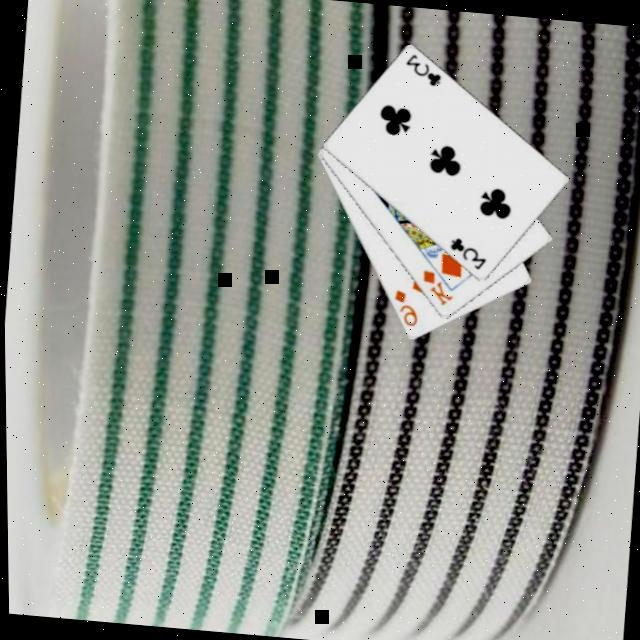3C: (442, 232, 487, 273), (399, 49, 444, 90)
9D: (385, 285, 420, 329)
KD: (413, 265, 455, 308)
